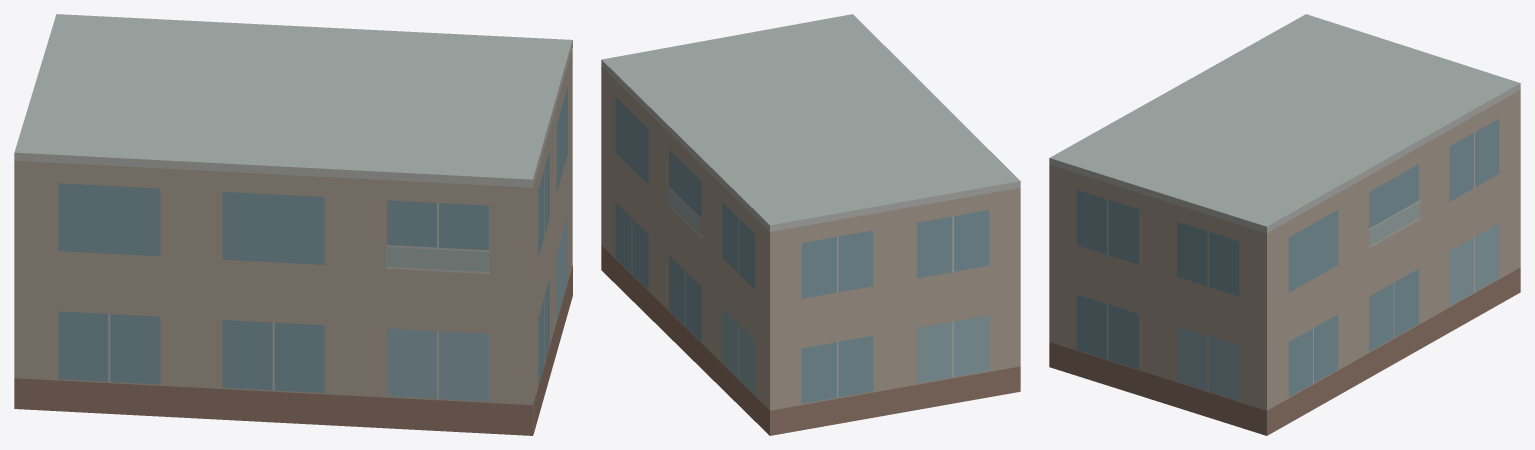
File: survey-upis-32629170.glb
The picture shows the model from 3 angles, left to right: view 1: azimuth 30°, elevation 25°; view 2: azimuth 150°, elevation 25°; view 3: azimuth 270°, elevation 25°; orthographic projection. The views are drawn at different scales.
Parts seen in each view (by area): view 1: survey-upis-32629170.tmp; view 2: survey-upis-32629170.tmp; view 3: survey-upis-32629170.tmp.
Boxes of the visible parts, box(x1,y1,x2,y2) form: survey-upis-32629170.tmp: box(14, 14, 572, 435); survey-upis-32629170.tmp: box(601, 14, 1020, 435); survey-upis-32629170.tmp: box(1049, 14, 1520, 435).
Size of the model in its own units: 16.81 by 7.7 by 15.74.
